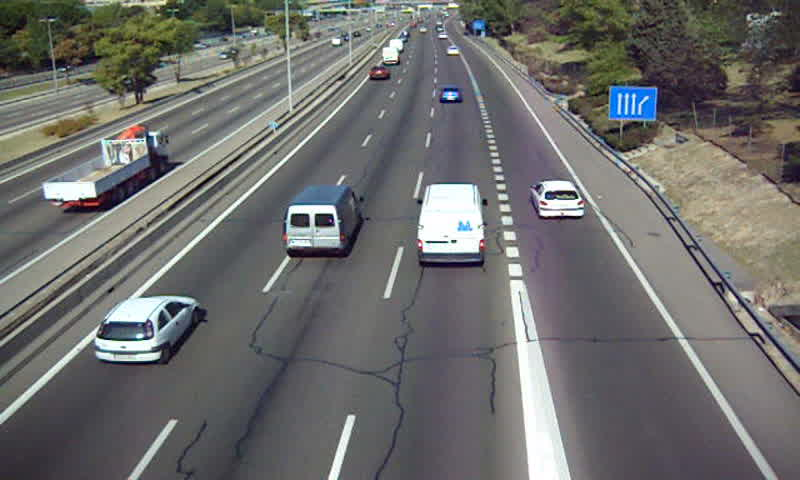car: (96, 295, 204, 366), (531, 180, 586, 218), (439, 86, 464, 103), (368, 66, 390, 81)
van: (417, 184, 485, 267), (285, 185, 361, 256), (381, 47, 400, 65)
